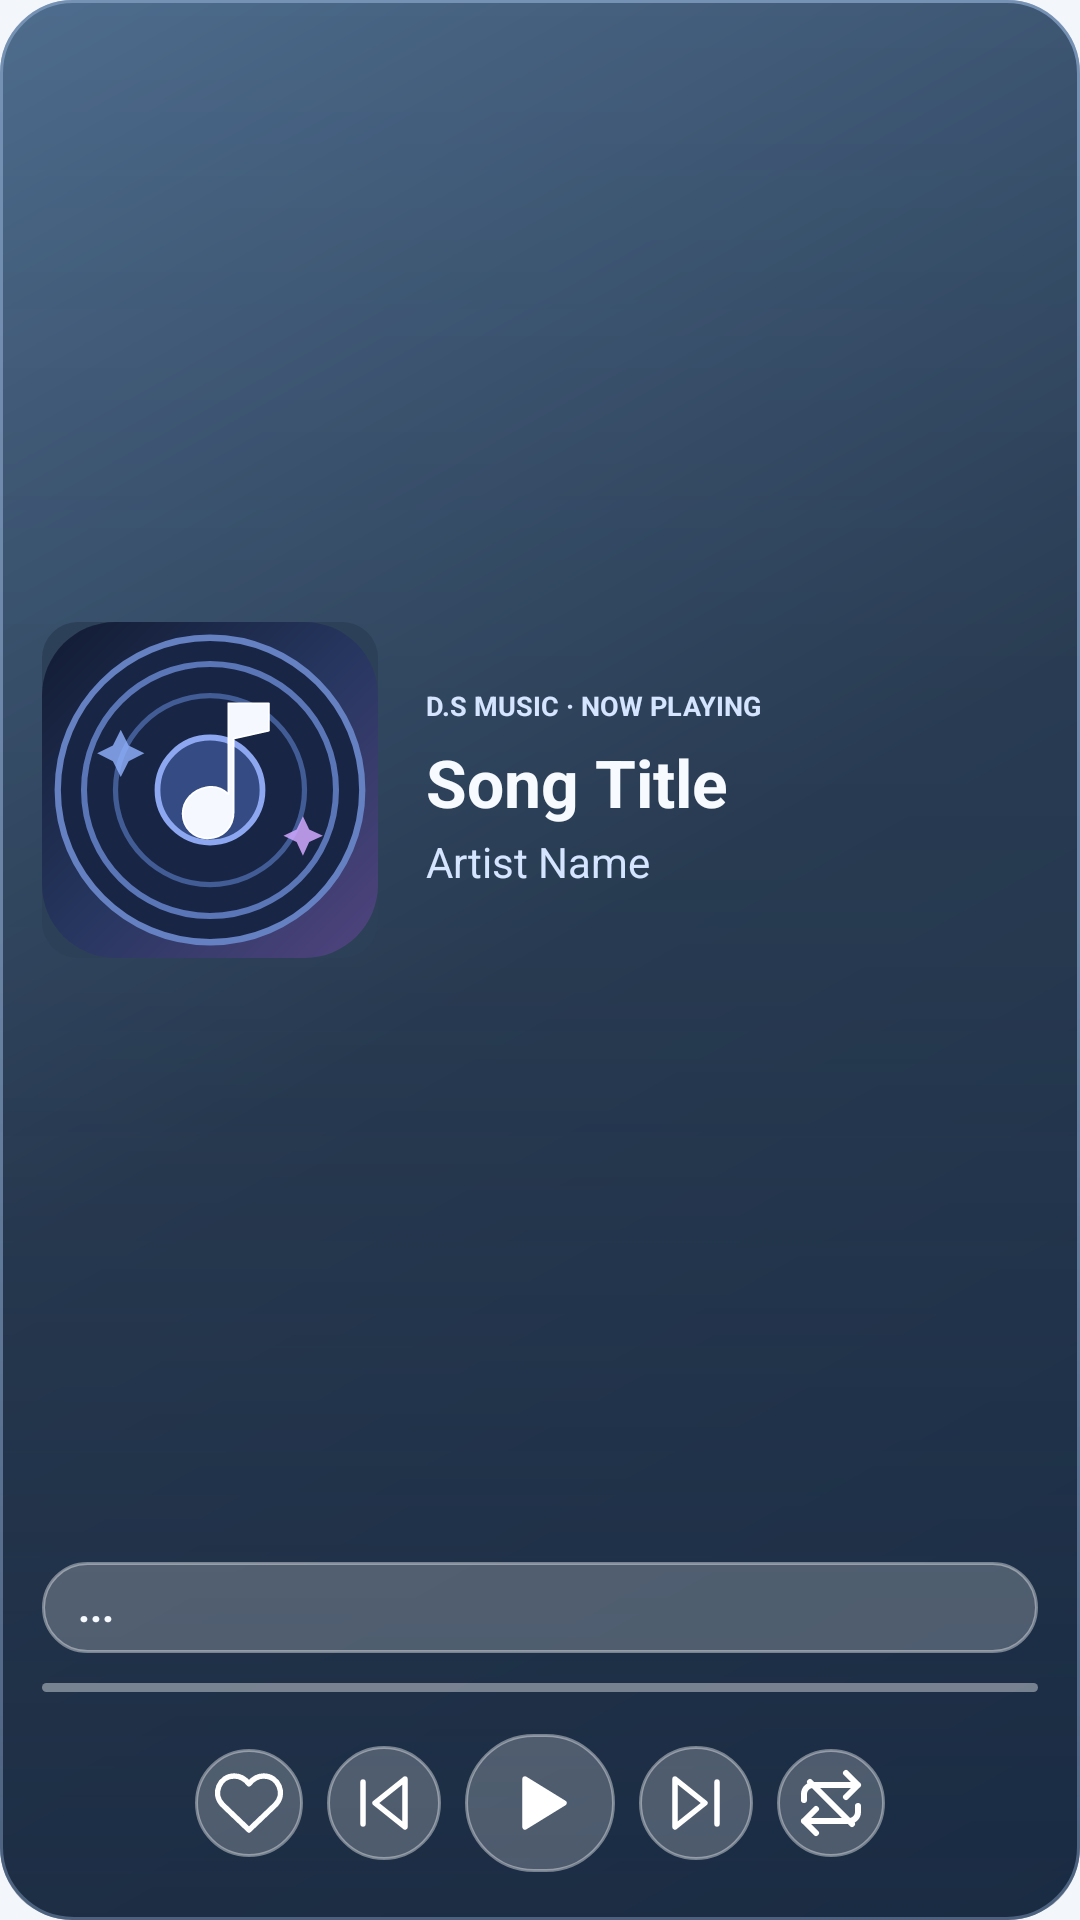

Icon click points for this 1080w x 1920h phone screenshot, format (x,y):
Favorite: (249,1803)
Next: (696,1803)
Play or Pause: (540,1803)
Previous: (384,1803)
Repeat: (831,1803)
widget idle art: (210,790)
